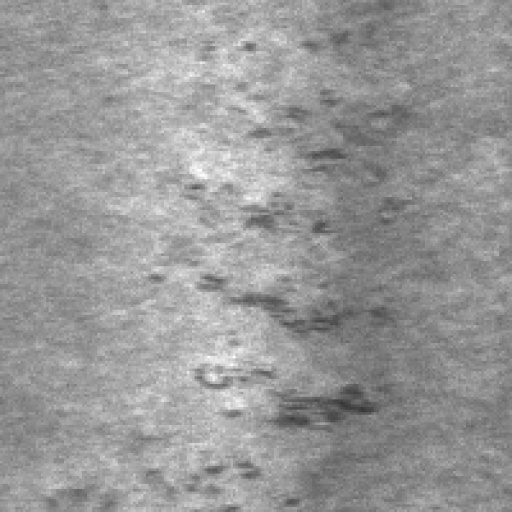rolled_in_scale: (162, 5, 425, 247), (135, 248, 402, 434), (29, 438, 315, 510)
